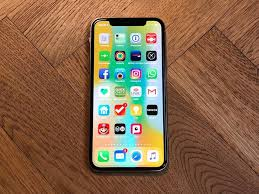iphone: (88, 14, 169, 173)
iphone10: (88, 14, 169, 173)
